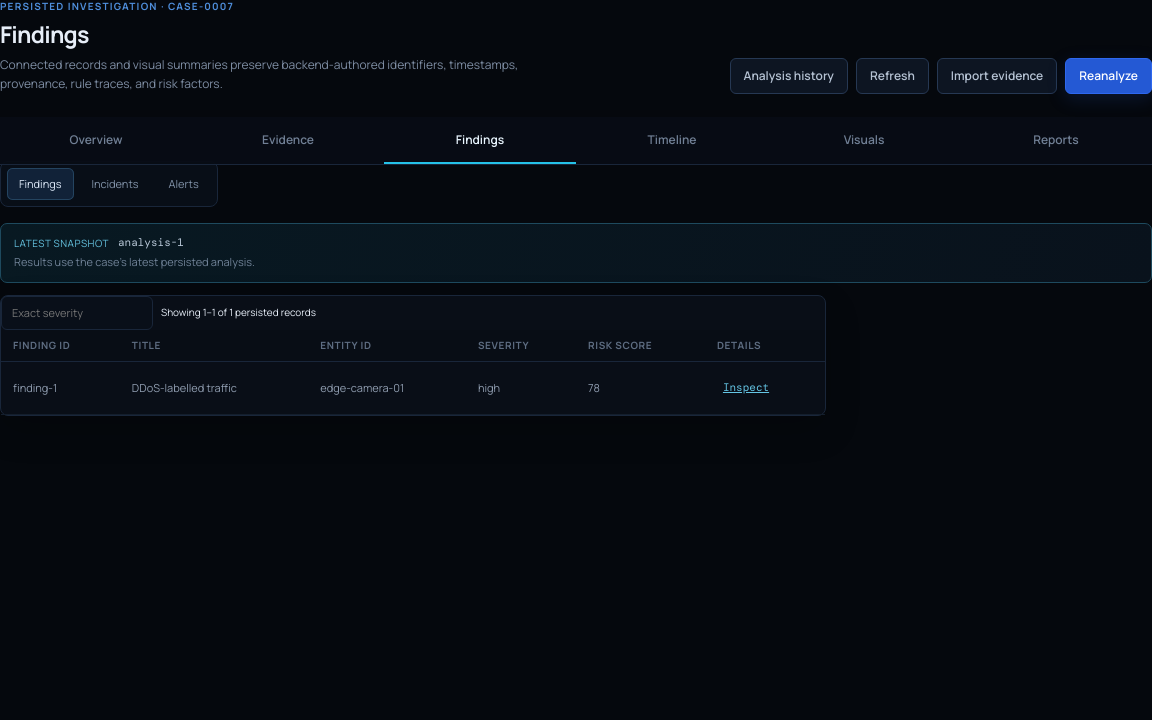
Test case: ConnectedCaseWorkspaceV3Page › explains classification provenance and the persisted risk equation
Click the button with aria-label "Inspect finding-1" at [746, 388], box [717,374,775,402]
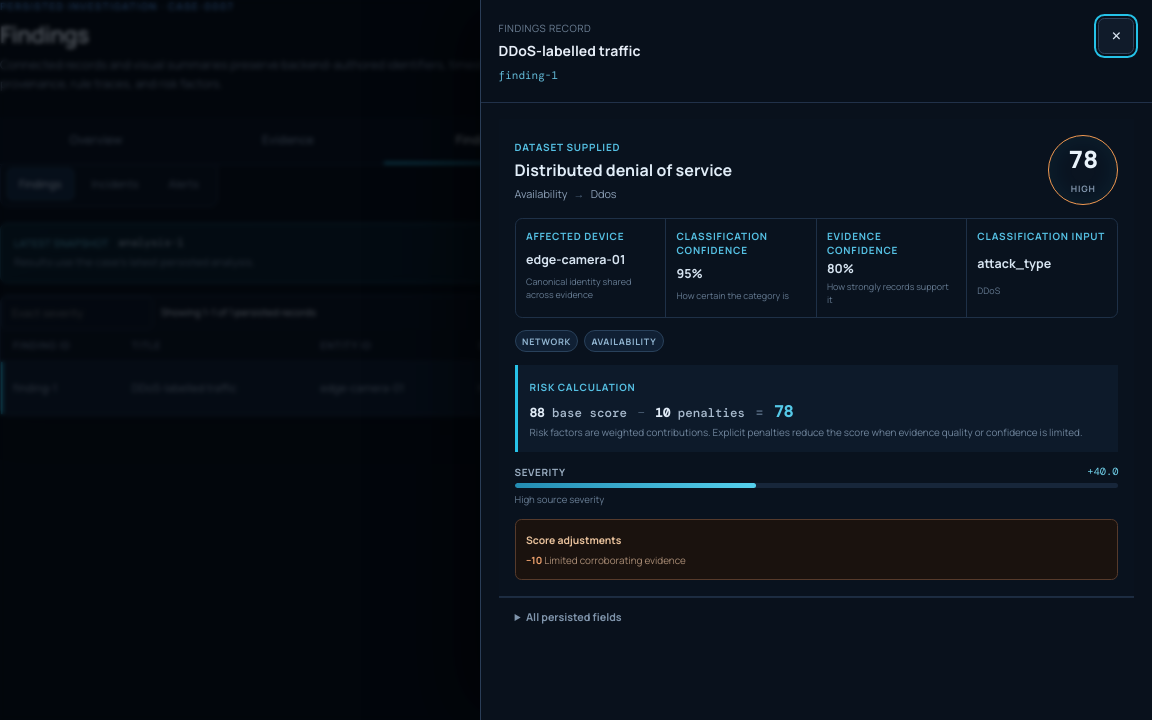
Result: the element named "Finding classification and risk explanation" shows "Dataset supplied" at [515,140,620,154]
Result: the element named "Finding classification and risk explanation" shows "attack_type" at [977,255,1051,272]
Result: the element named "Finding classification and risk explanation" shows "edge-camera-01" at [526,251,625,268]
